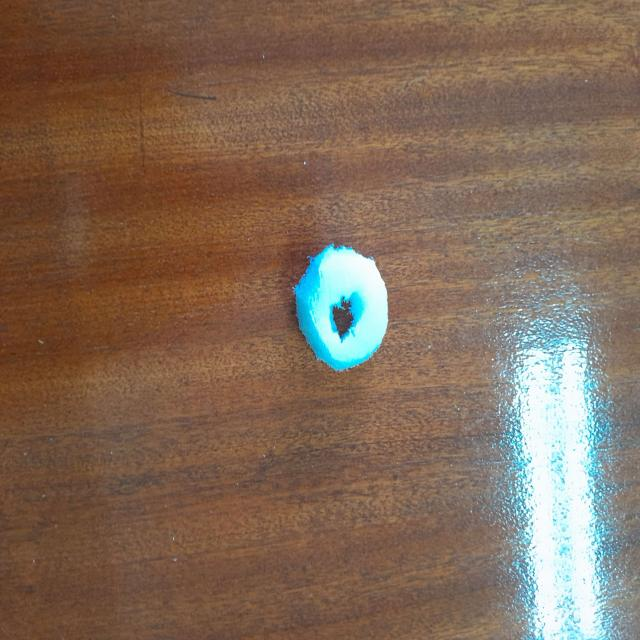wheel: (293, 247, 392, 373)
